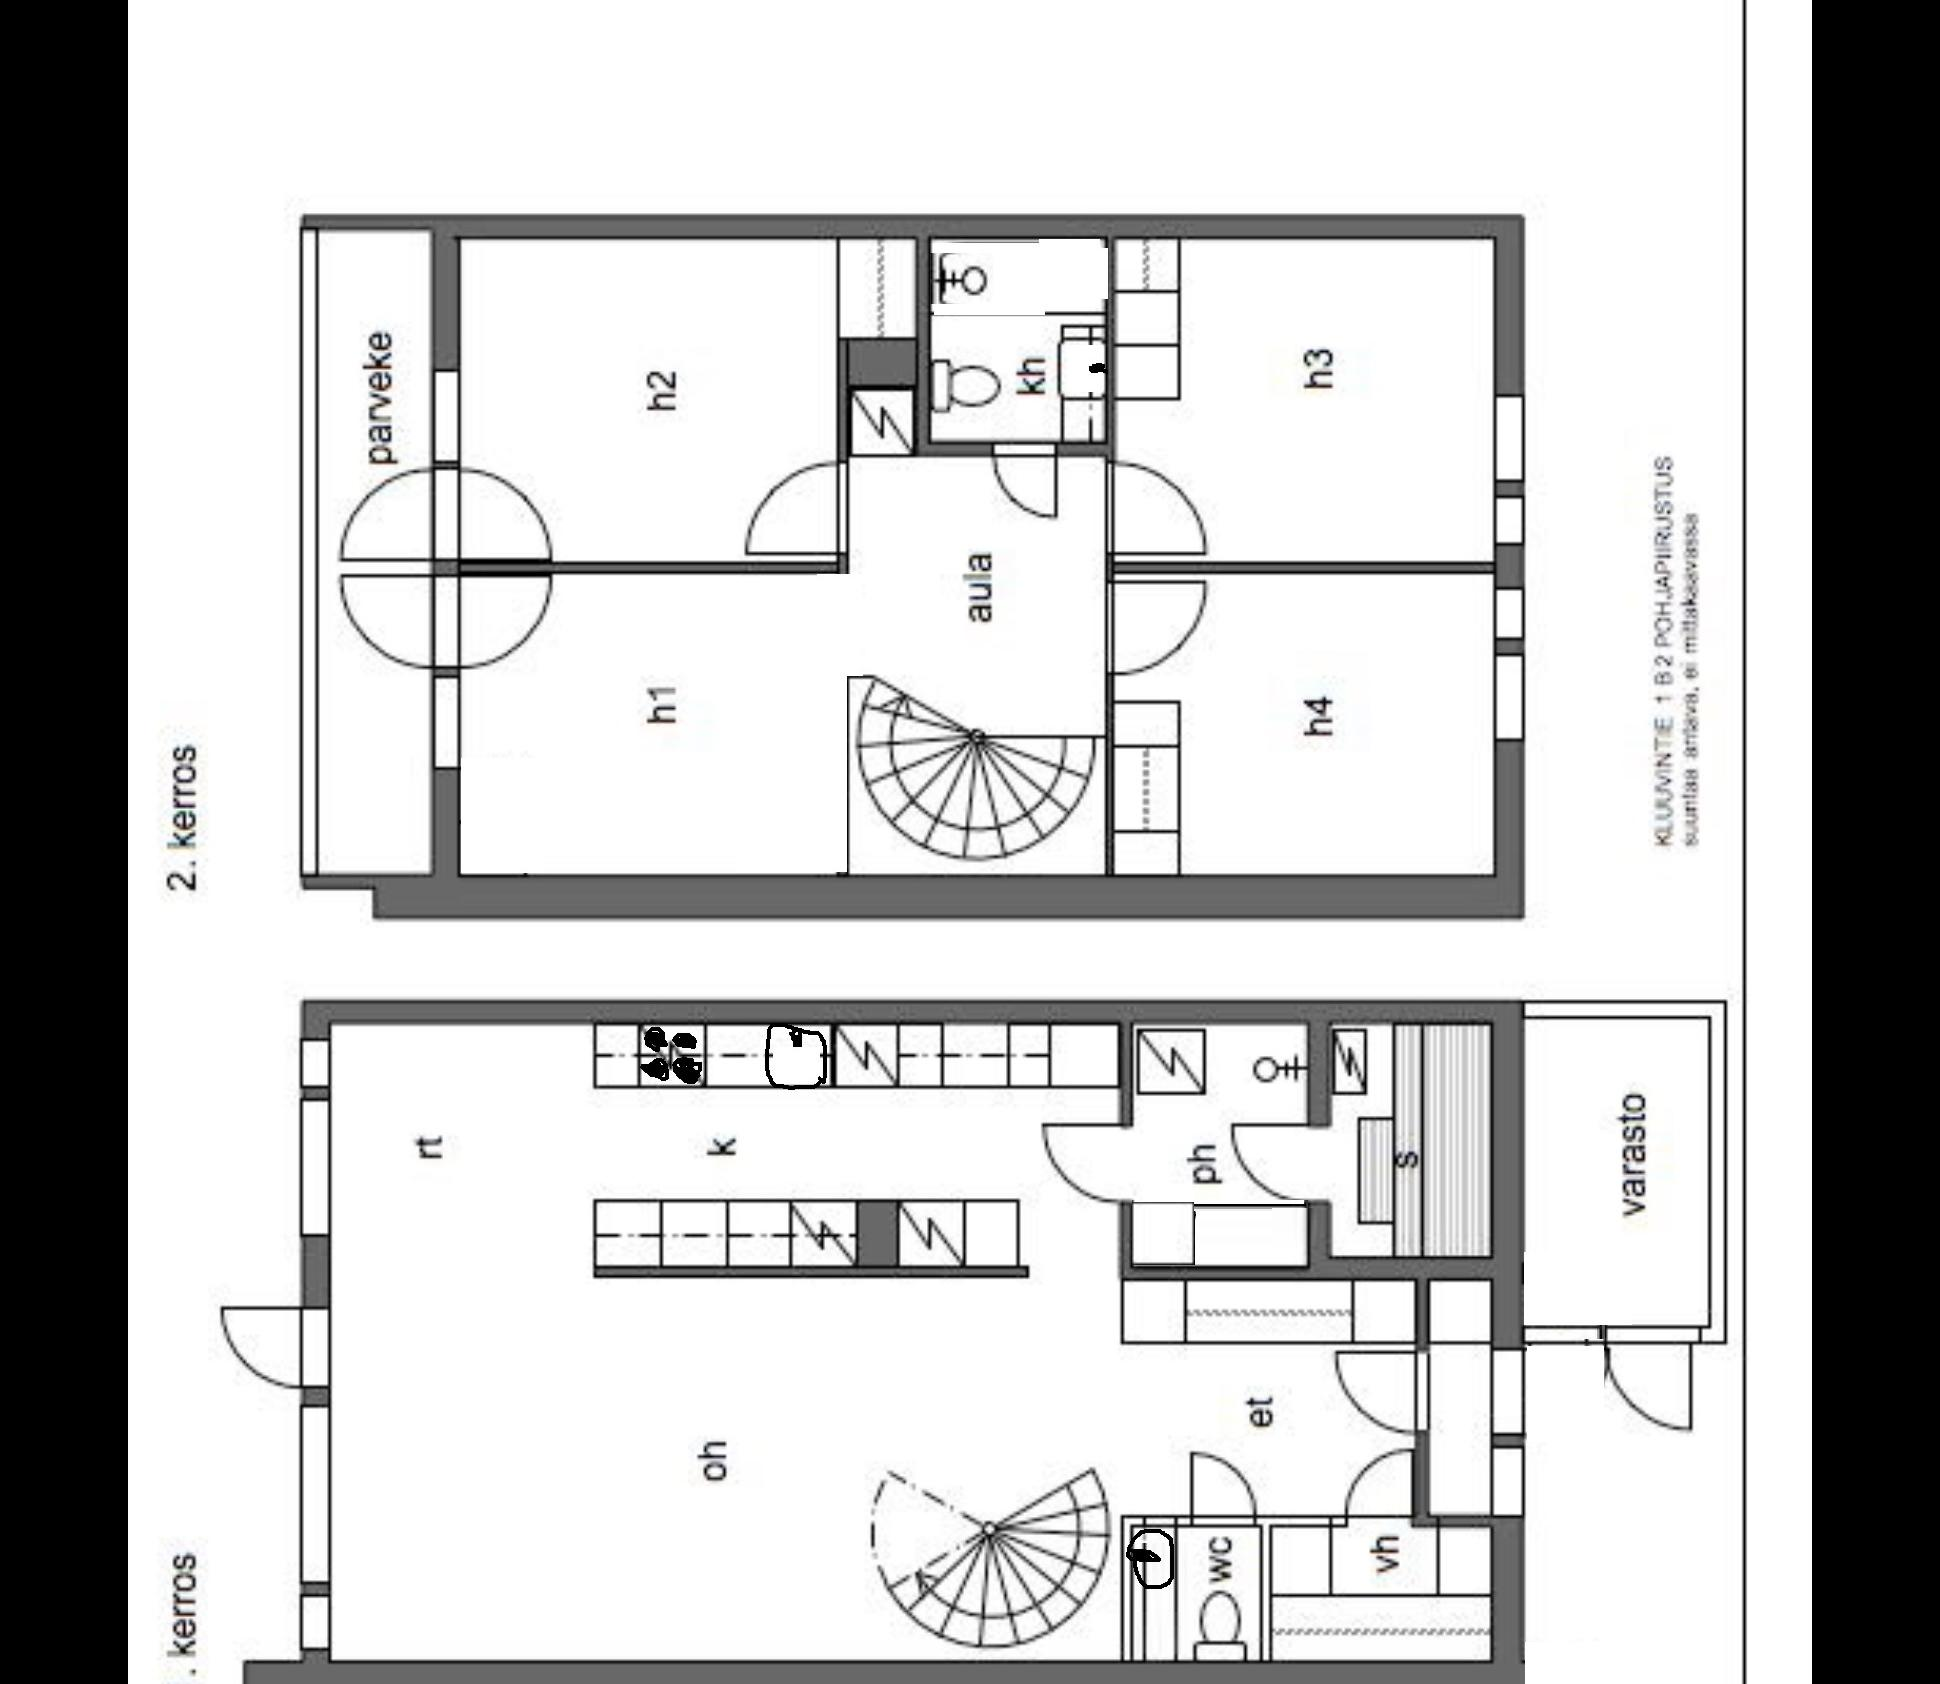bathroom: (927, 242, 1109, 447), (1133, 1521, 1275, 1658)
door: (332, 559, 455, 673), (333, 465, 469, 566), (1595, 1323, 1714, 1437), (739, 454, 858, 561), (444, 566, 564, 671), (1097, 576, 1214, 683), (1095, 455, 1209, 561), (214, 1296, 330, 1400), (1036, 1107, 1145, 1214), (442, 467, 554, 567), (1229, 1113, 1341, 1212), (1331, 1336, 1434, 1440), (1178, 1440, 1274, 1537), (1330, 1442, 1425, 1529), (983, 437, 1067, 521)
perimeter: (295, 219, 1533, 922), (280, 998, 1533, 1684)
stairs: (869, 1437, 1107, 1656), (848, 678, 1099, 861)
window: (290, 1395, 346, 1588), (292, 1090, 348, 1245), (1480, 378, 1534, 488), (1480, 1336, 1536, 1443), (426, 355, 477, 463), (421, 670, 472, 774), (1485, 643, 1533, 749), (1485, 1433, 1533, 1524), (290, 1587, 346, 1659), (1485, 577, 1536, 648), (1481, 487, 1536, 549), (292, 1033, 341, 1095)
